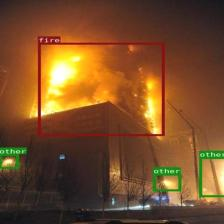fire: (38, 42, 164, 136)
